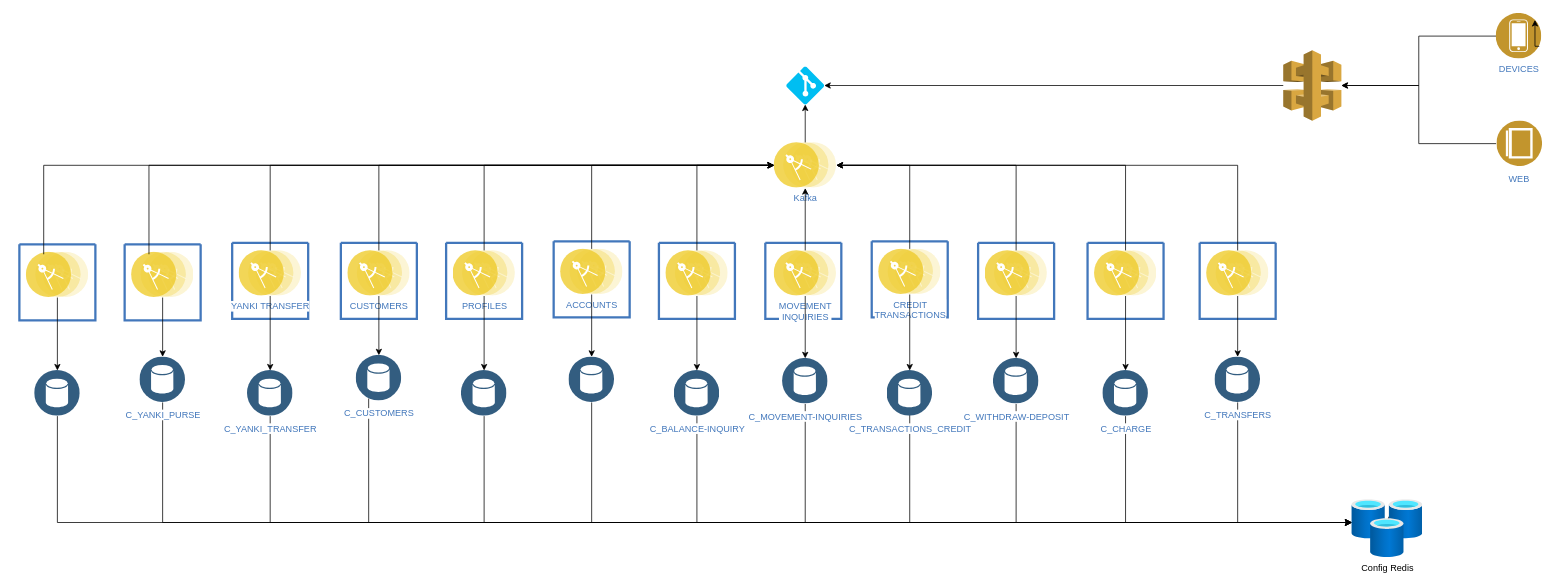
This 1559x586 diagram has some shape labels left out. The centre of each missing label's shape, as x and y in pixels:
BALANCE INQUIRY: [696,273]
C_ACCOUNTS: [591,379]
C_PROFILES: [484,393]
C_YANKI_ACCOUNT: [57,393]
CHARGE: [1125,273]
TRANSFERS: [1237,273]
WITHDRAW AND DEPOSIT MONEY: [1016,273]
YANKI ACCOUNT: [57,274]
YANKI PURSE: [162,274]
